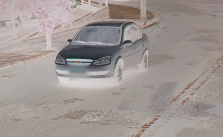car: (51, 19, 156, 89)
